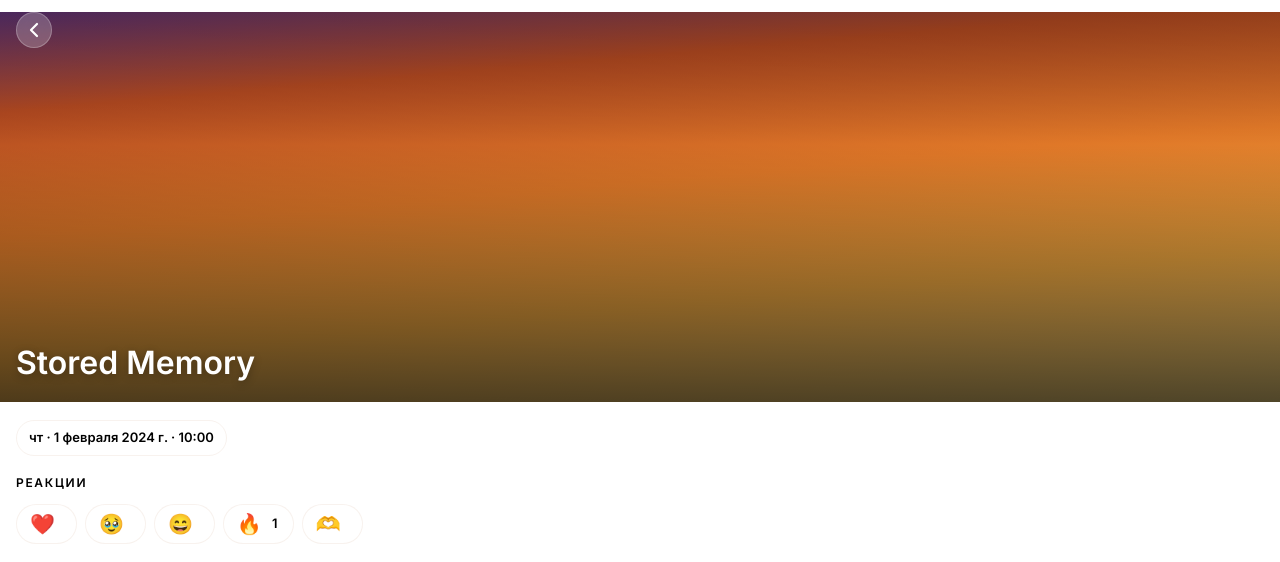
MomentDetail › renders reactions and updates the current user selection
Click the button named "Реакция 🔥": (258, 524) [223, 504, 294, 544]
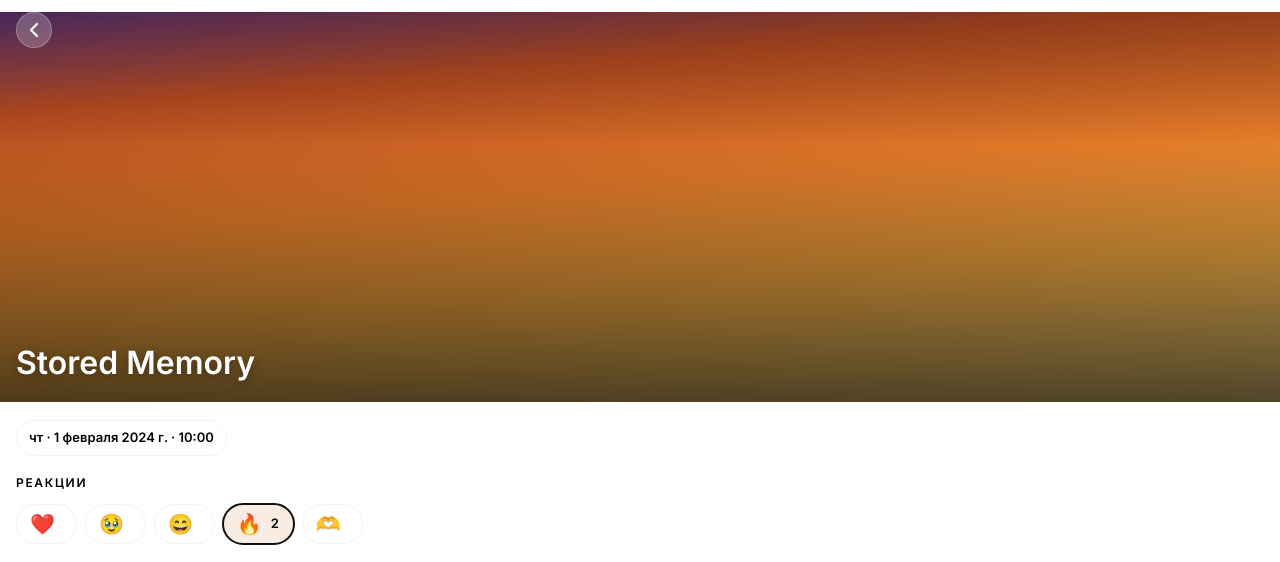
Expected: the button named "Реакция 🔥" shows "2", [223, 504, 294, 544]
